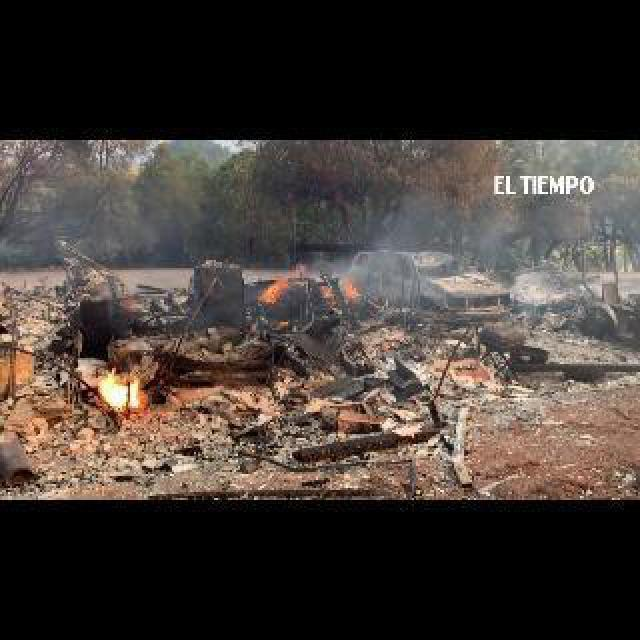Fire: (98, 370, 144, 406), (260, 282, 282, 304), (348, 278, 358, 294), (276, 316, 292, 324)
